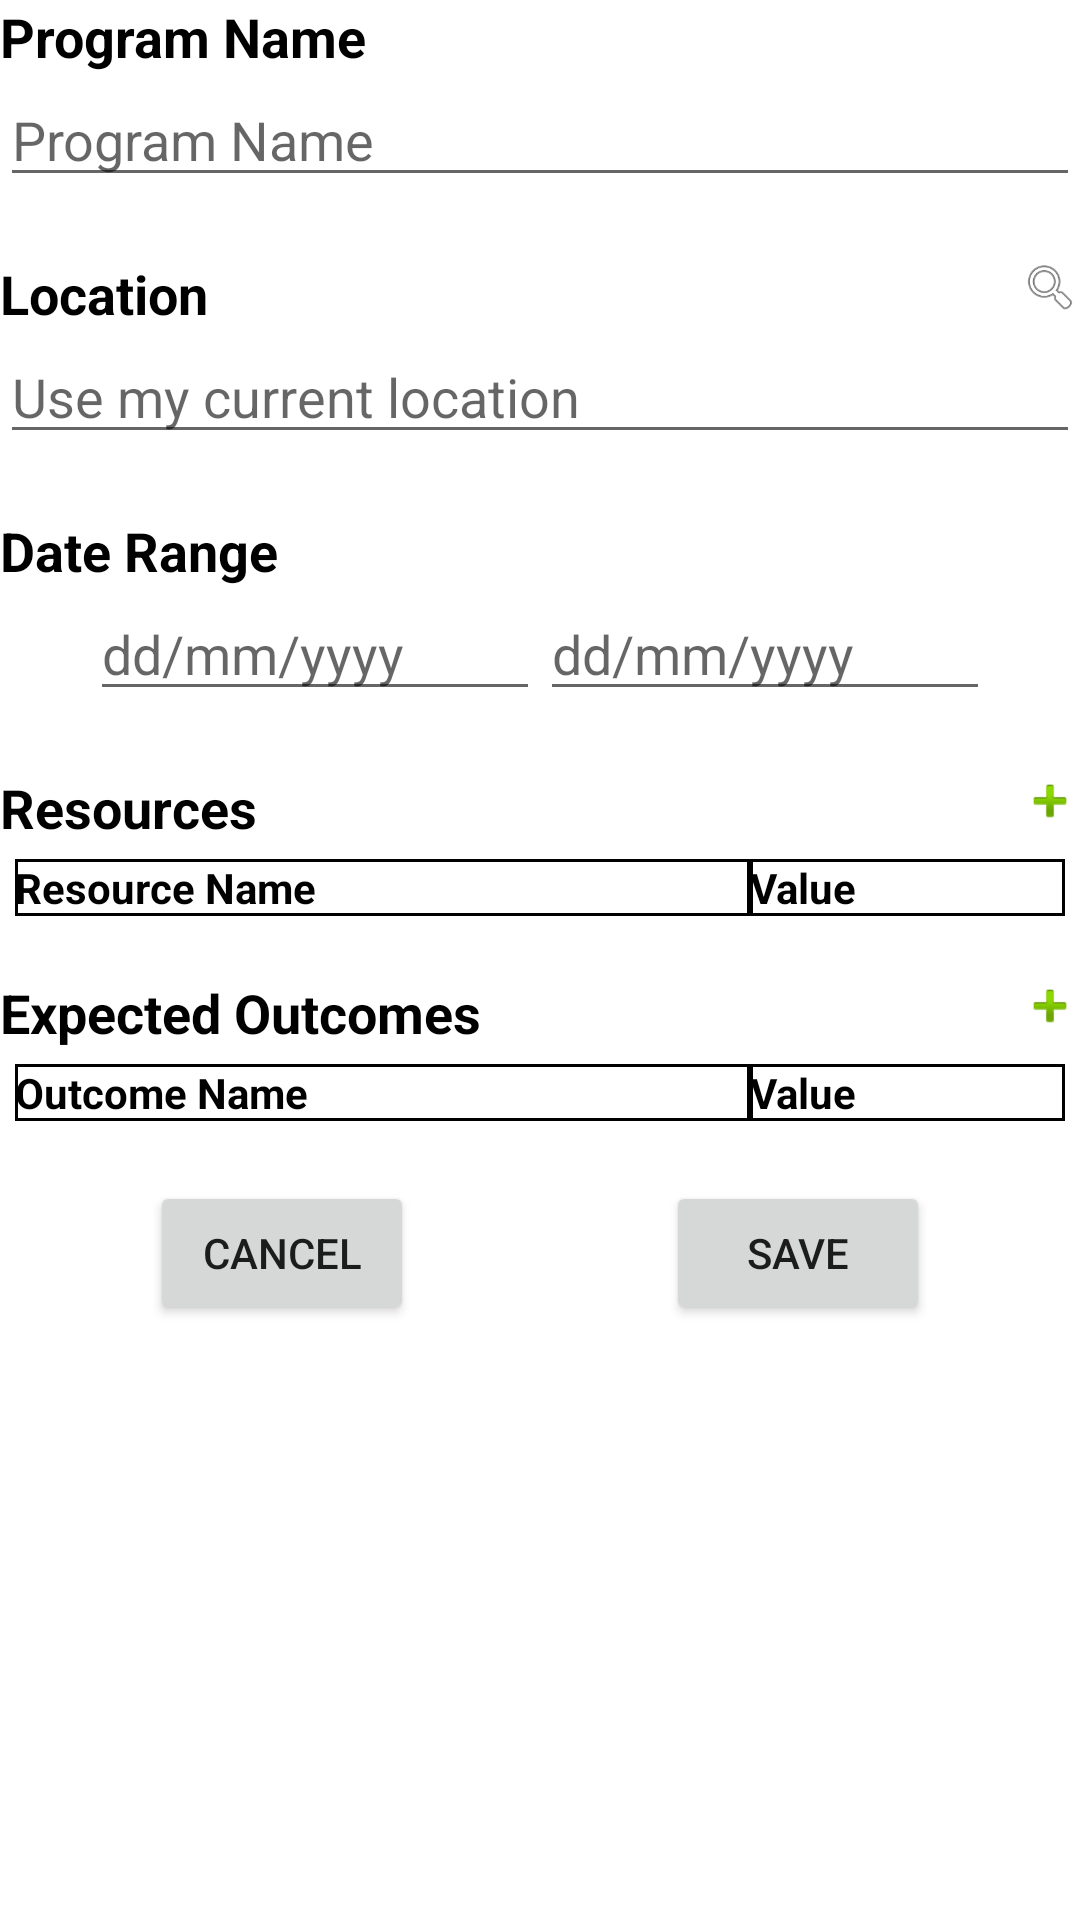

Icons on this 1080 x 1920 Android screen, each with its box as (x1, y1, x2, y2):
add: (1033, 784, 1067, 818), (1033, 989, 1067, 1023)
search: (1028, 265, 1072, 310)
